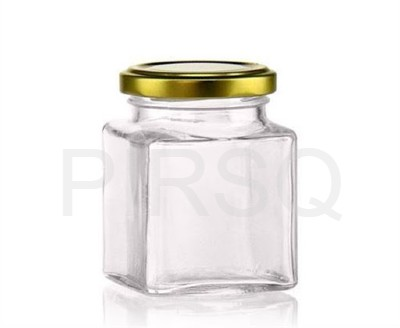glass_bottle: (98, 58, 301, 300)
